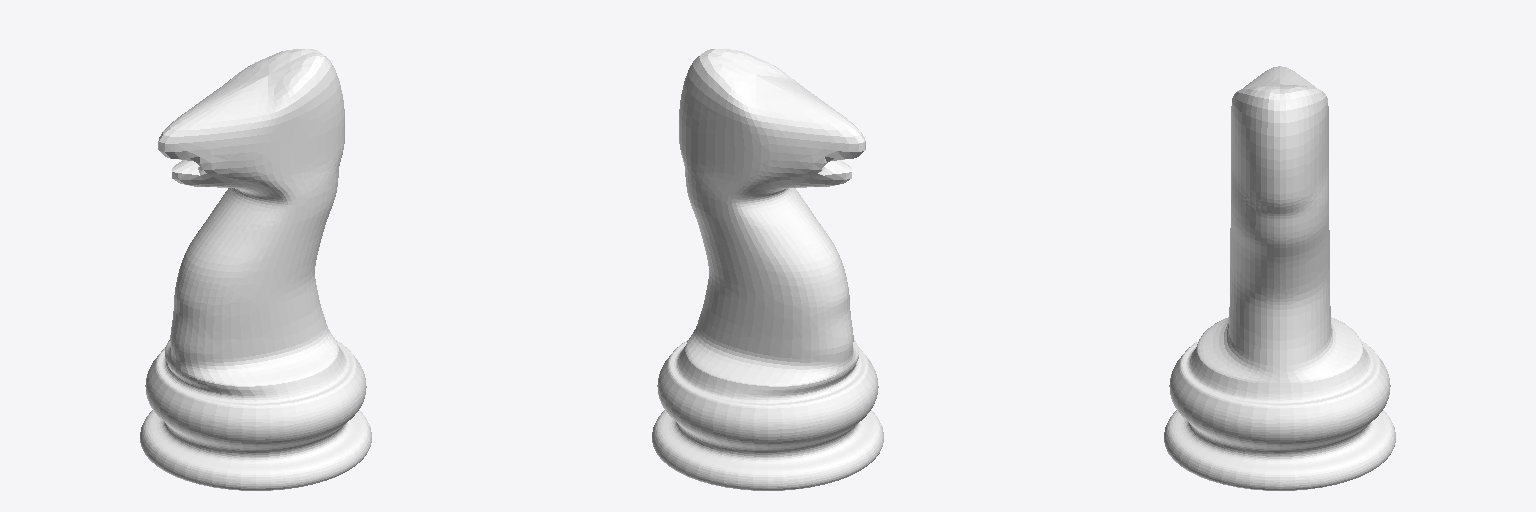
The model's file is Knight.obj.
The picture shows the model from 3 angles: view 1: azimuth 30°, elevation 25°; view 2: azimuth 150°, elevation 25°; view 3: azimuth 270°, elevation 25°; orthographic projection.
Parts seen in each view (by area): view 1: mesh01.001; view 2: mesh01.001; view 3: mesh01.001.
Boxes of the visible parts, x1=… form: mesh01.001: x1=140, y1=49, x2=371, y2=490; mesh01.001: x1=652, y1=49, x2=883, y2=490; mesh01.001: x1=1164, y1=66, x2=1395, y2=490.
Size of the model in its own units: 0.0113 by 0.0203 by 0.0113.